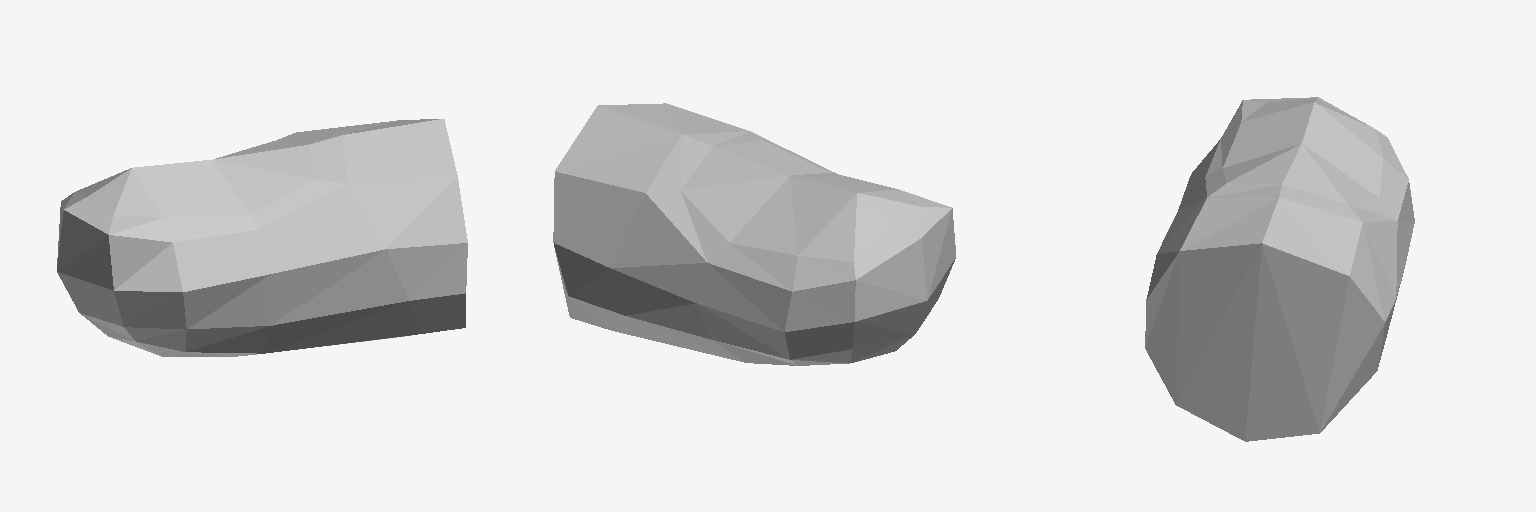
The model's file is ring3.obj.
3 renders of one model, left to right at view 1: azimuth 30°, elevation 25°; view 2: azimuth 150°, elevation 25°; view 3: azimuth 270°, elevation 25°, orthographic.
Size of the model in its own units: 26.02 by 14.1 by 16.95.